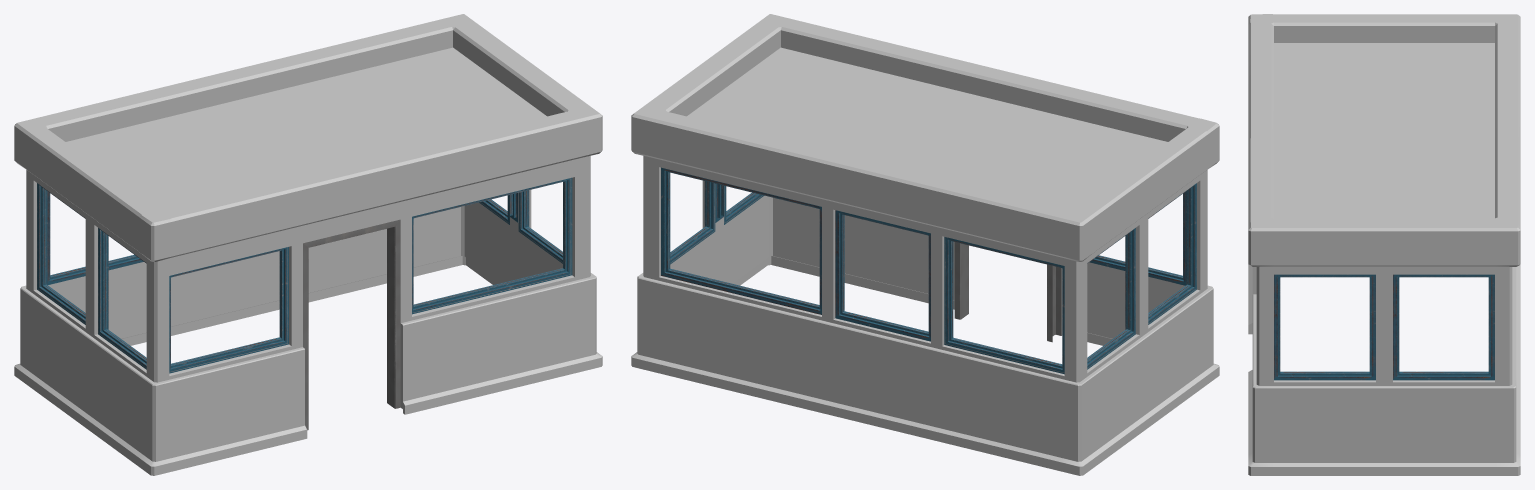
The model's file is SM_Guardbooth_Exterior_Guardbooth_Exterior.fbx.
3 views of the same model, side by side, from view 1: azimuth 30°, elevation 25°; view 2: azimuth 150°, elevation 25°; view 3: azimuth 270°, elevation 25° (orthographic). The views are drawn at different scales.
Visible parts, largest first — view 1: SM_Guardbooth_Exterior_Guardbooth_Exterior_LOD0; view 2: SM_Guardbooth_Exterior_Guardbooth_Exterior_LOD0; view 3: SM_Guardbooth_Exterior_Guardbooth_Exterior_LOD0.
Boxes of the visible parts, box(x1,y1,x2,y2) form: SM_Guardbooth_Exterior_Guardbooth_Exterior_LOD0: box(14, 14, 602, 475); SM_Guardbooth_Exterior_Guardbooth_Exterior_LOD0: box(631, 14, 1219, 475); SM_Guardbooth_Exterior_Guardbooth_Exterior_LOD0: box(1248, 14, 1520, 475).
Size of the model in its own units: 600 by 320 by 320.
